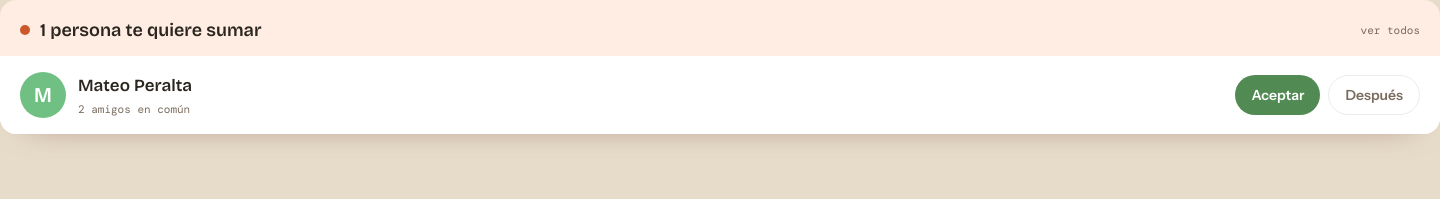
Test case: JuntadasFriendRequests › keeps a failed row available and explains how to recover
Step 1. Click the button "Aceptar" → coordinates (1278, 95), box [1236,75,1320,115]
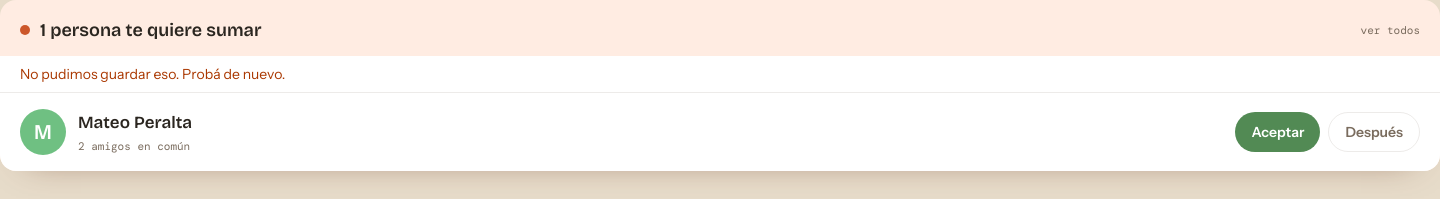
Expected: the text "Mateo Peralta" is shown, [78,110,192,136]
Now the message reads "No pudimos guardar eso. Probá de nuevo.", box [20,65,285,83]
